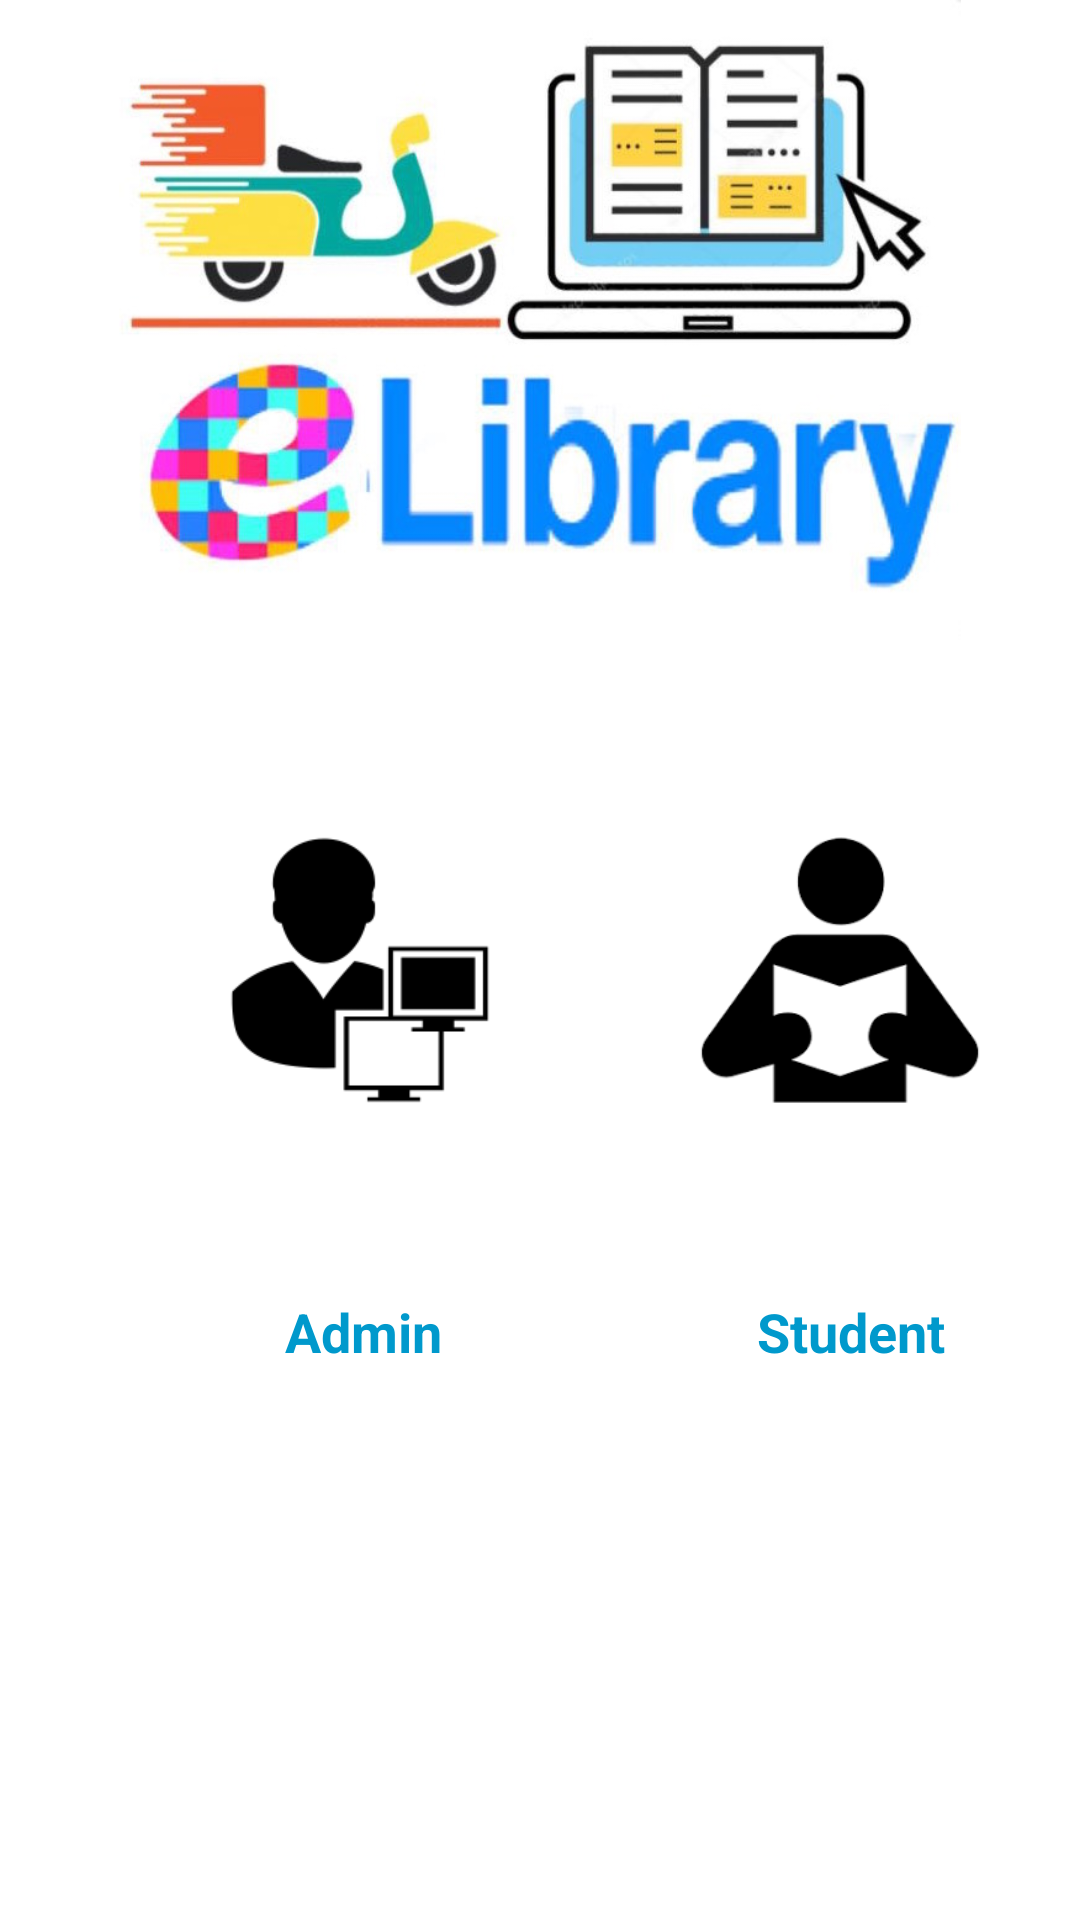

Locate icon controls on the screen. Image size 1080 × 1920, boxes as [x1=x1, y1=y1, x2=x2, y2=y2].
admin: [x1=231, y1=838, x2=489, y2=1102]
student: [x1=701, y1=837, x2=979, y2=1103]
